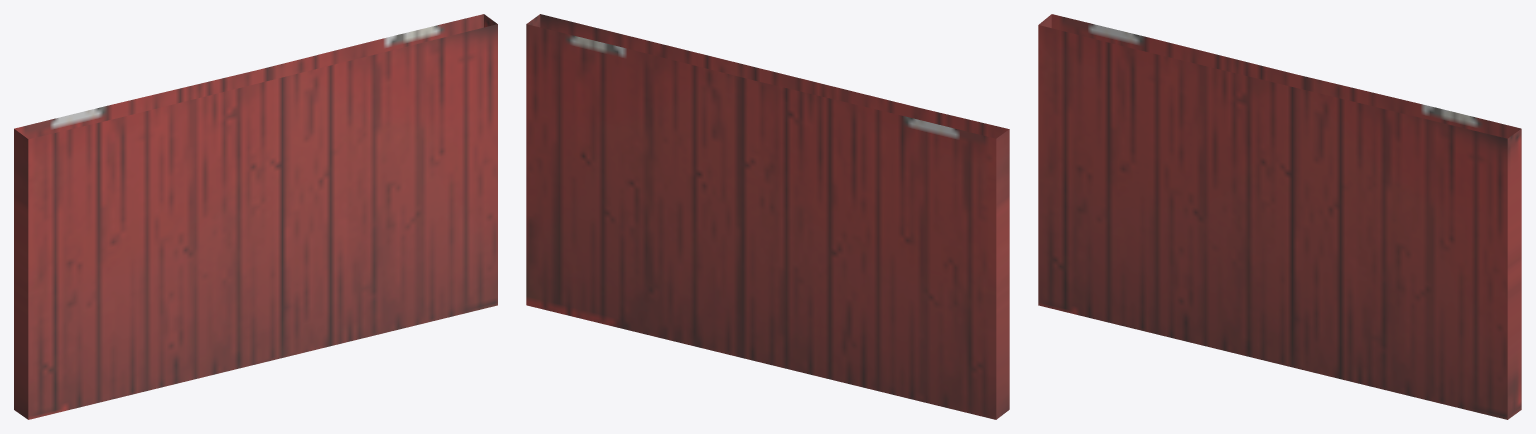
Rendered from bBack.obj.
3 views of the same model, side by side, from view 1: azimuth 30°, elevation 25°; view 2: azimuth 150°, elevation 25°; view 3: azimuth 330°, elevation 25° (orthographic).
Parts seen in each view (by area): view 1: farm_barn_farm_barn_mesh.029_farm_barn_farm_barn_mesh.039; view 2: farm_barn_farm_barn_mesh.029_farm_barn_farm_barn_mesh.039; view 3: farm_barn_farm_barn_mesh.029_farm_barn_farm_barn_mesh.039.
Boxes of the visible parts, <box> form: farm_barn_farm_barn_mesh.029_farm_barn_farm_barn_mesh.039: <box>14,14,497,419</box>; farm_barn_farm_barn_mesh.029_farm_barn_farm_barn_mesh.039: <box>526,14,1009,419</box>; farm_barn_farm_barn_mesh.029_farm_barn_farm_barn_mesh.039: <box>1038,14,1521,419</box>.
Size of the model in its own units: 4.13 by 2.37 by 0.2109.
